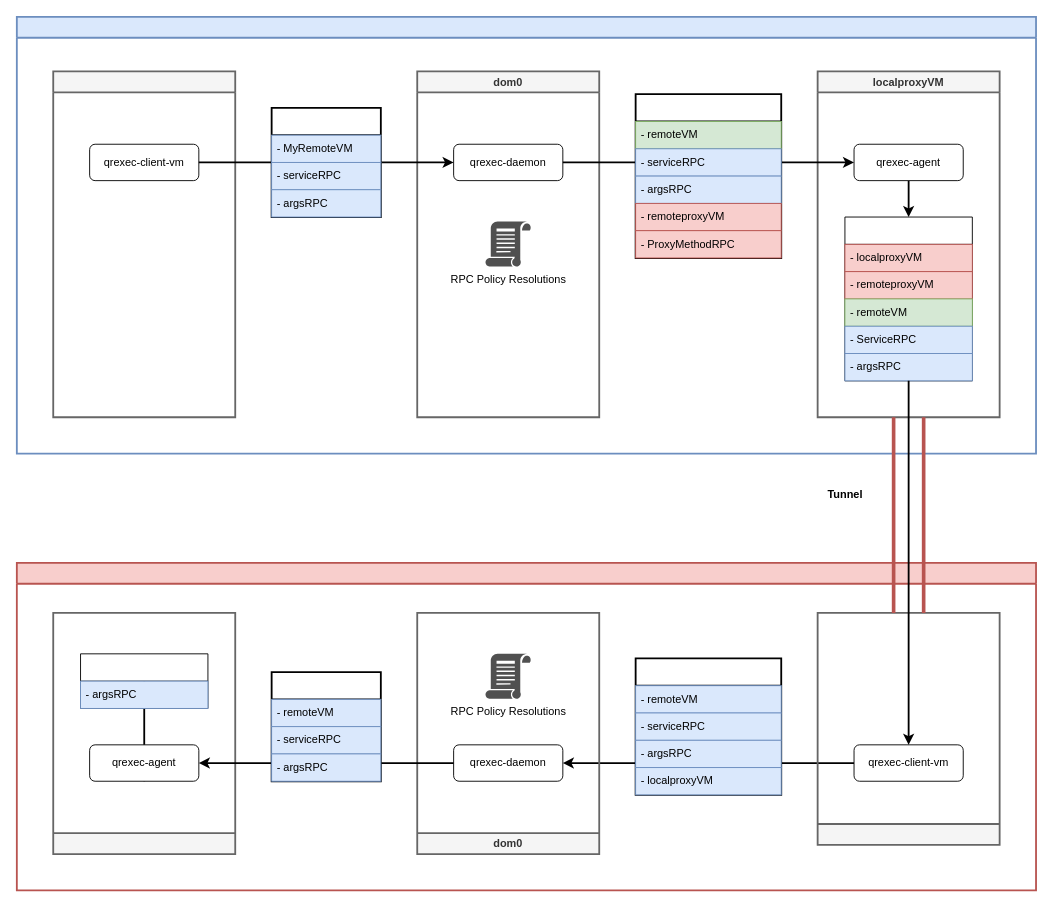
Image size: 1052x906. Some labels were removed from this diagram. The box of each missing label's shape, as (x1, y1, x2, y2) in pixels:
Final RPC Request: (634, 657, 782, 795)
Initial RPC Request: (270, 106, 381, 217)
localVM: (52, 70, 236, 418)
ProxyMethodRPC: (844, 216, 972, 381)
Qubes OS - Local: (15, 15, 1036, 454)
Qubes OS - Remote: (15, 561, 1036, 891)
Relayed and translated RPC Request: (634, 93, 782, 258)
Relayed RPC Request: (270, 671, 381, 782)
remoteproxyVM: (816, 612, 1000, 845)
remoteVM: (52, 612, 236, 854)
ServiceRPC: (80, 653, 208, 708)
